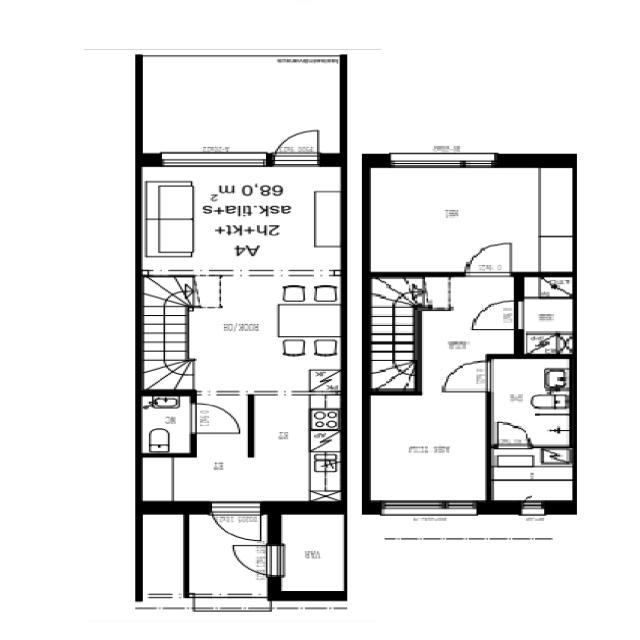door: (488, 355, 570, 448), (456, 237, 518, 277), (210, 502, 264, 544), (466, 296, 525, 332), (186, 402, 245, 437), (438, 359, 496, 394), (228, 541, 277, 576), (274, 126, 323, 158), (490, 420, 536, 450)
window: (382, 150, 502, 171), (153, 148, 272, 168), (372, 498, 482, 519), (520, 499, 546, 516)
zone: (142, 275, 343, 394), (141, 159, 344, 276), (364, 165, 572, 274), (154, 394, 347, 508), (489, 356, 573, 448), (277, 512, 345, 595), (486, 445, 580, 505), (516, 274, 578, 356), (138, 393, 194, 456)
